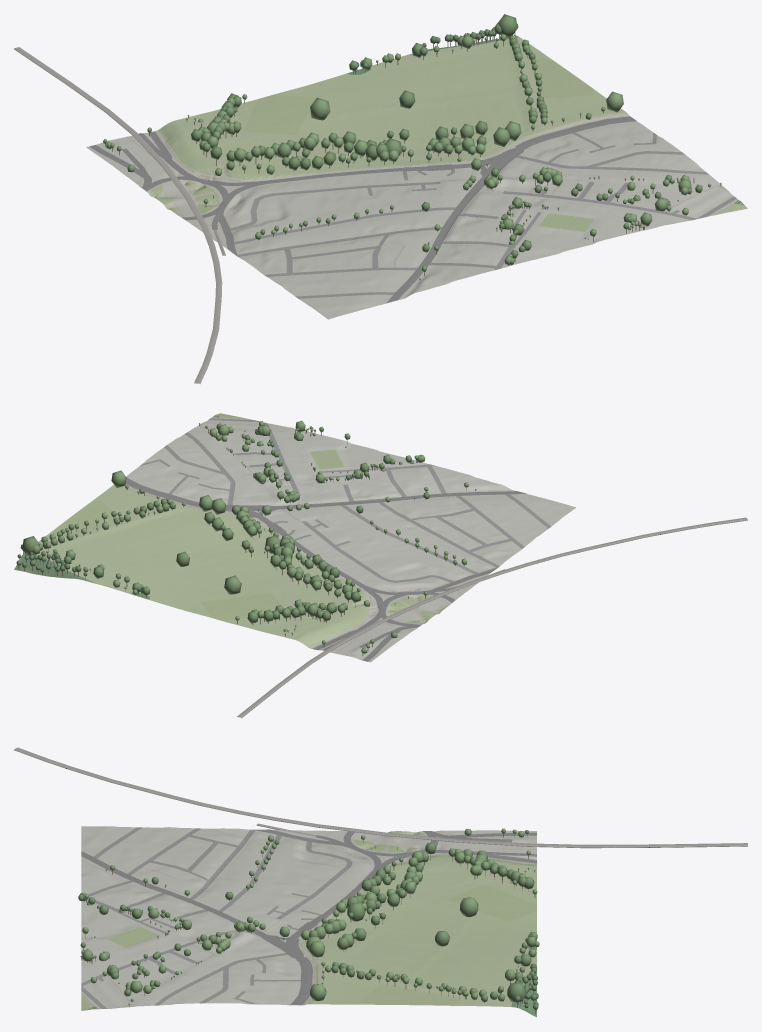
The picture shows the model from 3 angles, top to bottom: view 1: azimuth 30°, elevation 25°; view 2: azimuth 150°, elevation 25°; view 3: azimuth 270°, elevation 25°; orthographic projection. The views are drawn at different scales.
Parts seen in each view (by area): view 1: t13_12_terrain, way/16764030@t13_12, t13_12_trees_mapped, t13_12_roads_minor, t13_12_roads_major, t13_12_roads_path, way/19206389, way/204103393@t13_12, way/204103394@t13_12, way/891315399@t13_12; view 2: t13_12_terrain, way/16764030@t13_12, t13_12_trees_mapped, t13_12_roads_minor, t13_12_roads_major, way/19206389, t13_12_roads_path, way/204103393@t13_12, way/204103394@t13_12, way/221320452@t13_12, way/221320452@t13_12_canopy; view 3: t13_12_terrain, way/16764030@t13_12, t13_12_trees_mapped, t13_12_roads_minor, t13_12_roads_major, way/19206389, t13_12_roads_path, way/204103393@t13_12, way/204103394@t13_12, way/221320452@t13_12_canopy, way/891315399@t13_12.
Boxes of the visible parts, x1,y1,x2,y2 form: t13_12_terrain: [86, 114, 738, 318]; way/16764030@t13_12: [157, 37, 627, 179]; t13_12_trees_mapped: [103, 14, 721, 280]; t13_12_roads_minor: [230, 132, 736, 319]; t13_12_roads_major: [89, 116, 636, 303]; t13_12_roads_path: [126, 37, 741, 267]; way/19206389: [14, 47, 222, 383]; way/204103393@t13_12: [243, 95, 314, 135]; way/204103394@t13_12: [529, 58, 593, 98]; way/891315399@t13_12: [539, 213, 593, 231]; t13_12_terrain: [64, 417, 575, 662]; way/16764030@t13_12: [37, 485, 368, 647]; t13_12_trees_mapped: [22, 420, 476, 655]; t13_12_roads_minor: [140, 418, 575, 582]; t13_12_roads_major: [125, 477, 526, 661]; way/19206389: [237, 517, 747, 718]; t13_12_roads_path: [36, 414, 490, 653]; way/204103393@t13_12: [201, 593, 280, 621]; way/204103394@t13_12: [52, 501, 123, 537]; way/221320452@t13_12: [14, 553, 149, 599]; way/221320452@t13_12_canopy: [16, 544, 146, 596]; t13_12_terrain: [81, 826, 536, 1010]; way/16764030@t13_12: [302, 855, 536, 1006]; t13_12_trees_mapped: [78, 828, 539, 1006]; t13_12_roads_minor: [81, 826, 352, 1008]; t13_12_roads_major: [81, 829, 536, 1005]; way/19206389: [14, 747, 747, 848]; t13_12_roads_path: [81, 830, 536, 1009]; way/204103393@t13_12: [448, 884, 536, 922]; way/204103394@t13_12: [360, 983, 460, 1005]; way/221320452@t13_12_canopy: [512, 934, 538, 1014]; way/891315399@t13_12: [107, 927, 159, 947].
Bounding box in the file's own units: 702 × 46.85 × 805.
